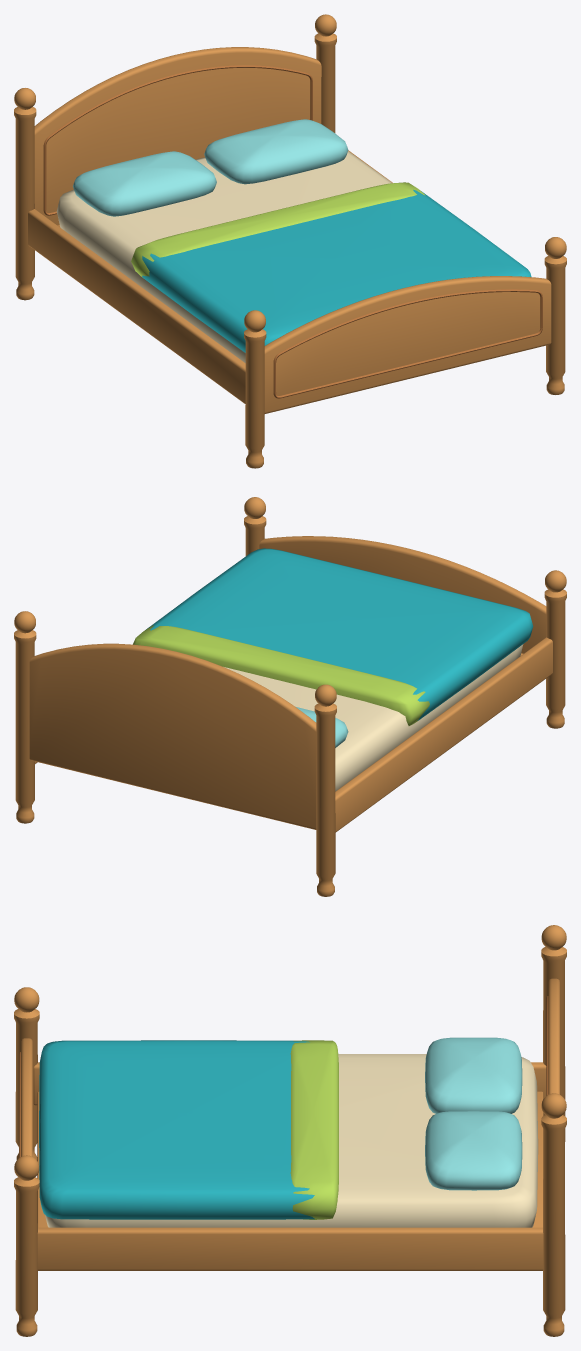
File: cama_casal_classica_madeira.glb
The picture shows the model from 3 angles, top to bottom: view 1: azimuth 30°, elevation 25°; view 2: azimuth 150°, elevation 25°; view 3: azimuth 270°, elevation 25°; orthographic projection. The views are drawn at different scales.
Visible parts, largest first — view 1: cama_casal_classica_madeira; view 2: cama_casal_classica_madeira; view 3: cama_casal_classica_madeira.
Boxes of the visible parts, left/top/right/bottom form: cama_casal_classica_madeira: left=14, top=14, right=566, bottom=468; cama_casal_classica_madeira: left=14, top=497, right=566, bottom=896; cama_casal_classica_madeira: left=14, top=925, right=566, bottom=1336.
Size of the model in its own units: 1.61 by 0.9991 by 2.1.
Materials: 1 (1 with a texture image).
